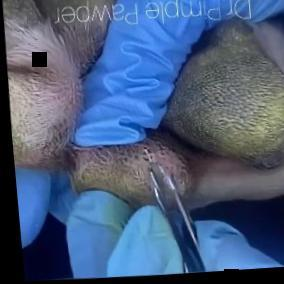keratosis: (158, 21, 284, 177)
